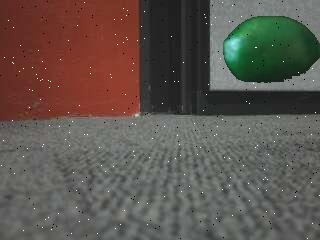Lime: (221, 14, 320, 85)
